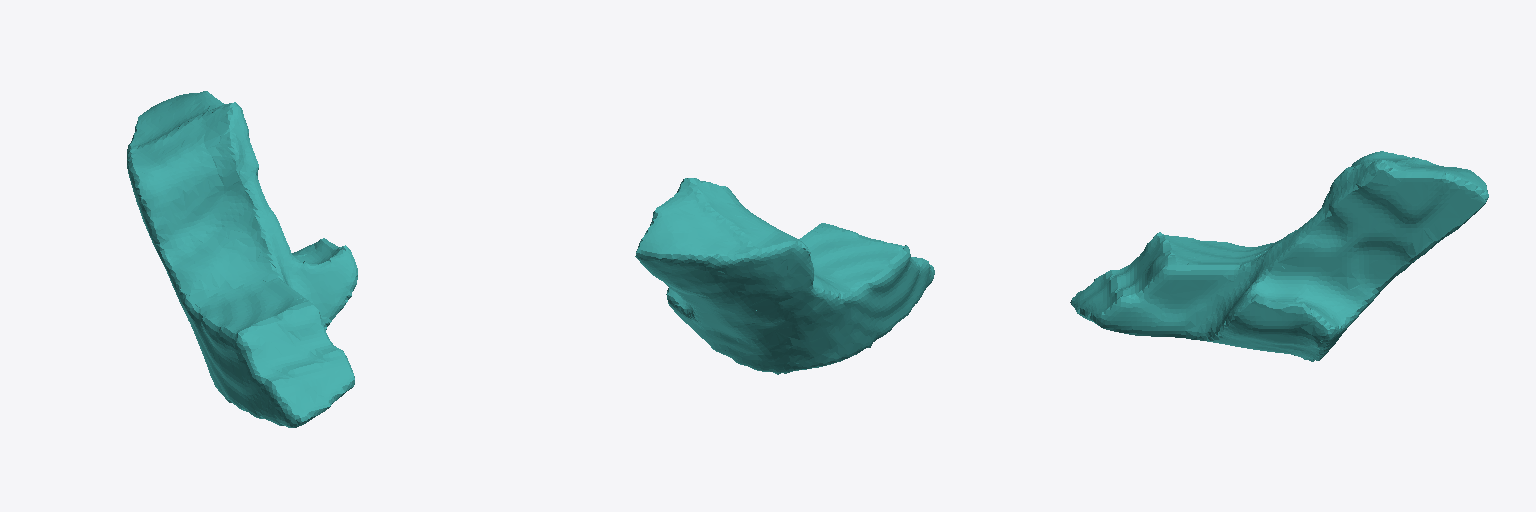
Rendered from Model_10131_LH__Temporal_area_TE__occipital_part_(TEO).obj.
3 views of the same model, side by side, from view 1: azimuth 30°, elevation 25°; view 2: azimuth 150°, elevation 25°; view 3: azimuth 270°, elevation 25° (orthographic).
Size of the model in its own units: 3.51 by 4.46 by 7.77.